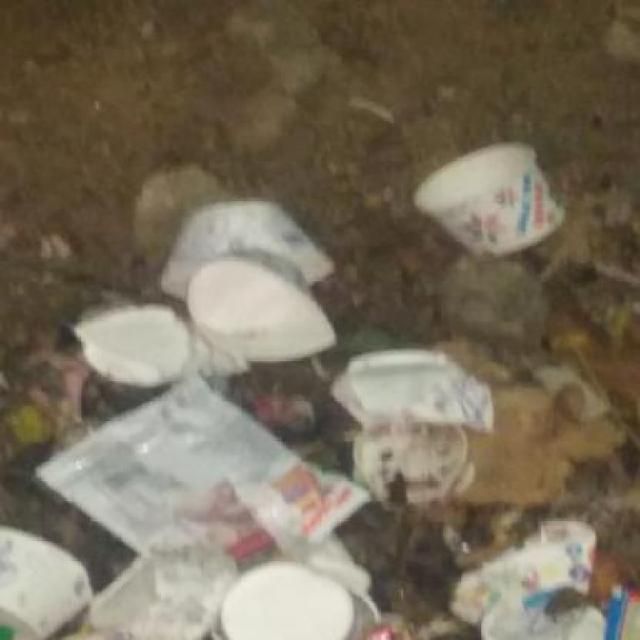garbage: (25, 123, 640, 640)
